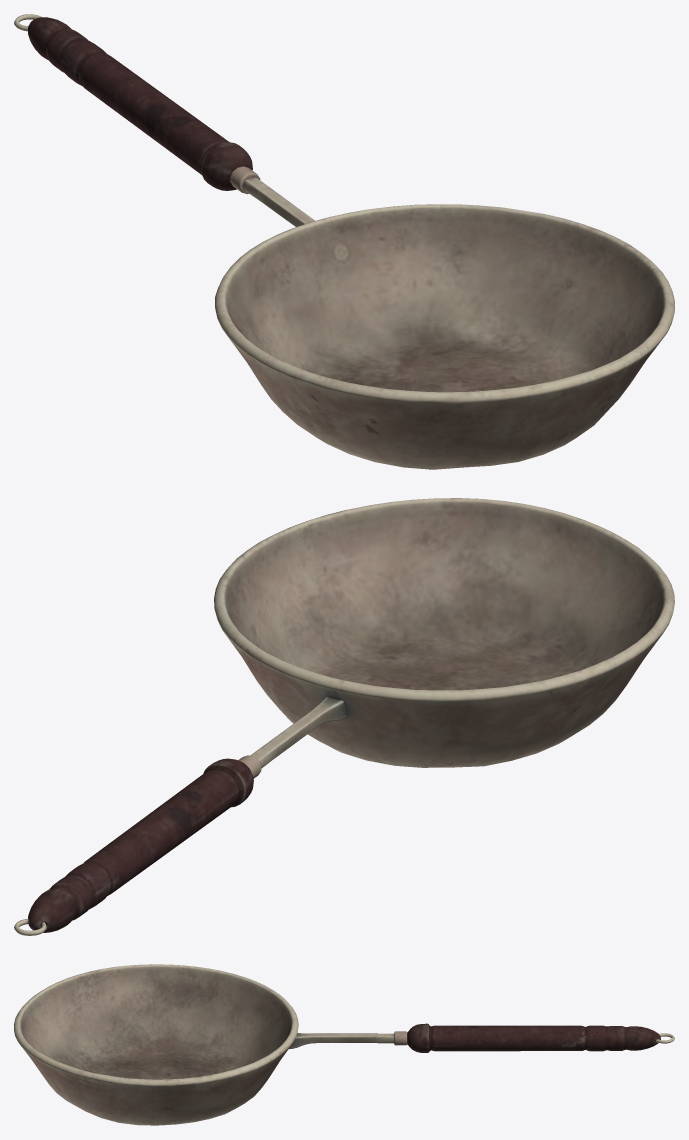
The model's file is nyb_copa_pan.glb.
The picture shows the model from 3 angles, top to bottom: view 1: azimuth 30°, elevation 25°; view 2: azimuth 150°, elevation 25°; view 3: azimuth 270°, elevation 25°; orthographic projection. The views are drawn at different scales.
Parts seen in each view (by area): view 1: brass_pan_01; view 2: brass_pan_01; view 3: brass_pan_01.
Boxes of the visible parts, bbox=[...] form: brass_pan_01: bbox=[14, 14, 674, 469]; brass_pan_01: bbox=[14, 498, 674, 935]; brass_pan_01: bbox=[14, 964, 674, 1125].
Bounding box in the file's own units: 0.1913 × 0.0525 × 0.4497.
Materials: 1 (1 with a texture image).
